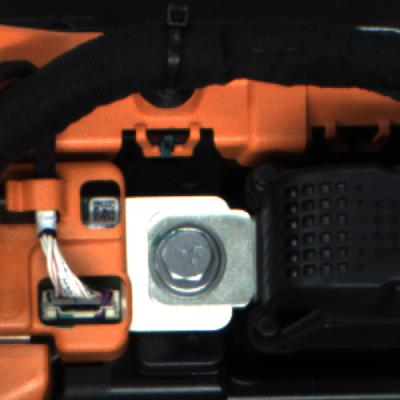nut_b: (138, 215, 254, 304)
